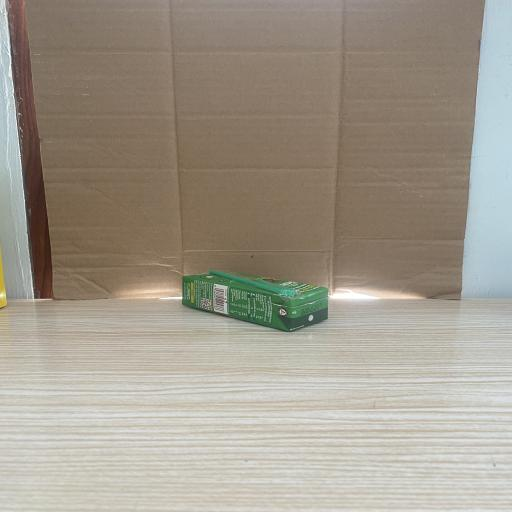milo: (182, 269, 328, 332)
